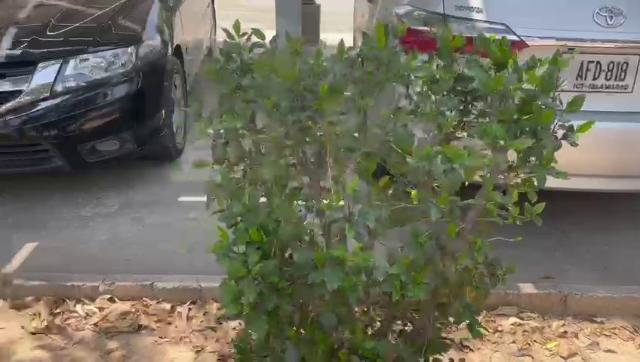plate: (556, 48, 640, 93)
